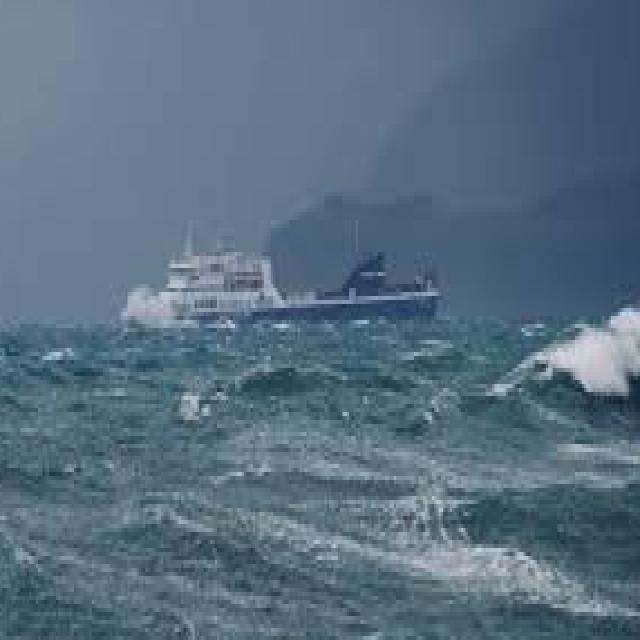fishing boat: (158, 226, 448, 326)
